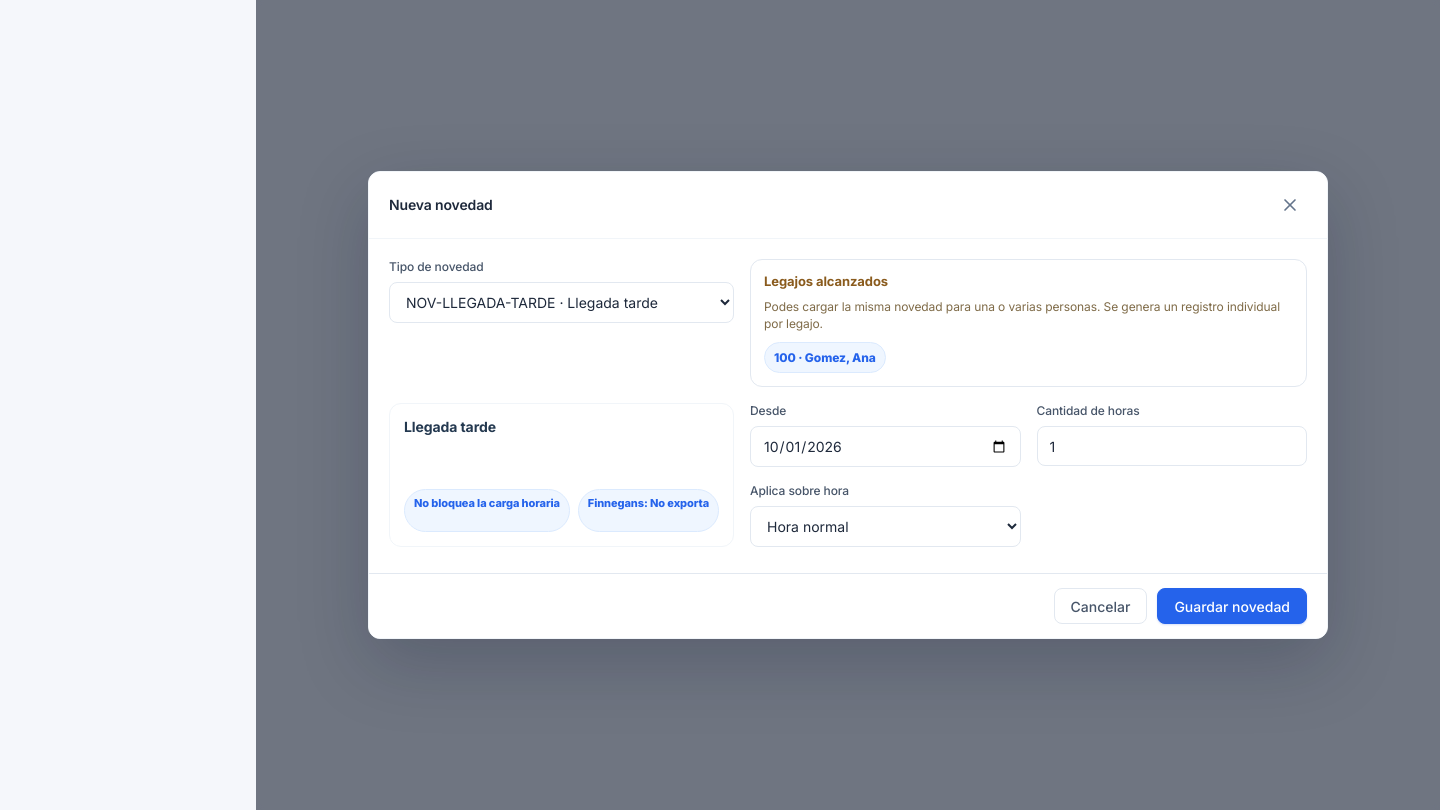
Test: NoveltyModal — Etapa 15G.3 (conflicto de duplicado/solapamiento) › NOVELTY_OVERLAP: muestra el mensaje especifico del backend, sin ningun id/UUID tecnico visible
Expected: the text "Llegada tarde" is shown, left=404, top=418, right=496, bottom=435
Step 1. Click the button "Guardar novedad" → (1232,606), box left=1157, top=588, right=1307, bottom=624
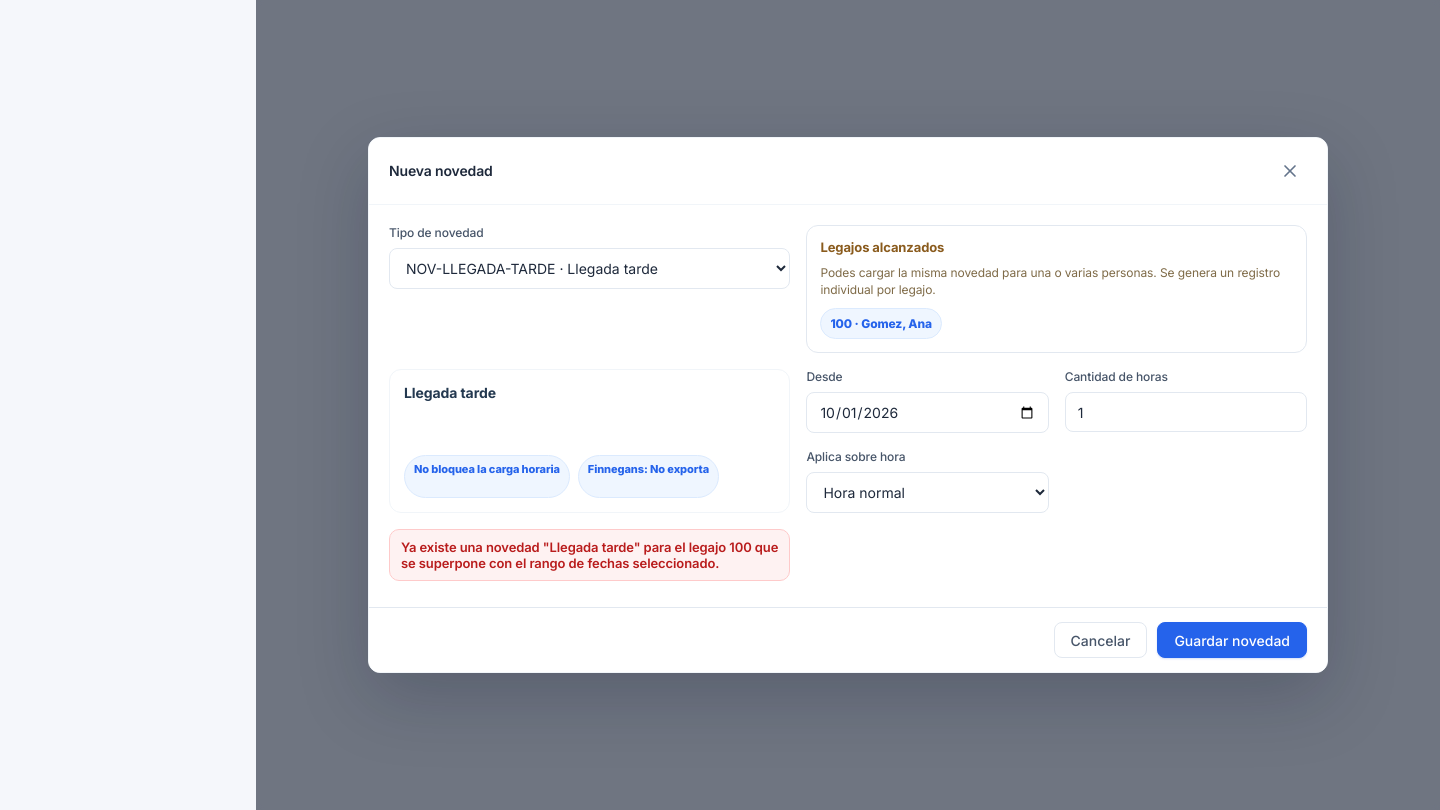
Expected: the text "se superpone con el rango de fechas" is shown, left=401, top=539, right=778, bottom=571
